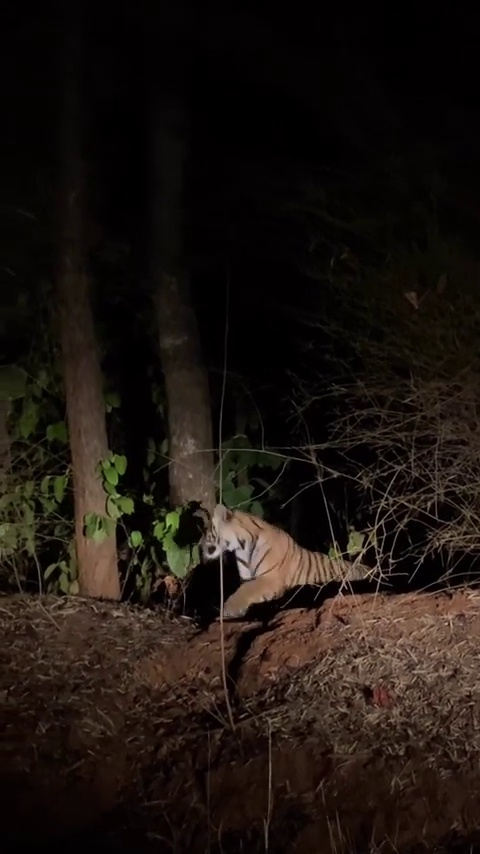Tiger: (196, 503, 377, 621)
